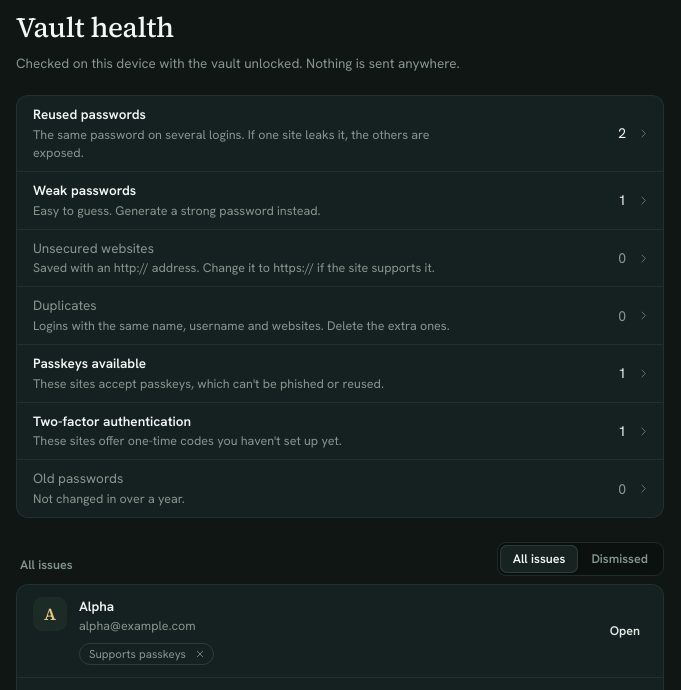
Scenario: HealthView › offers no How to enable for a site without a setup guide
What coordinates should you click on to do the following:
click the button that starts with "Passkeys available"
I would click on:
 (340, 373)
Its box is [17, 345, 663, 402].
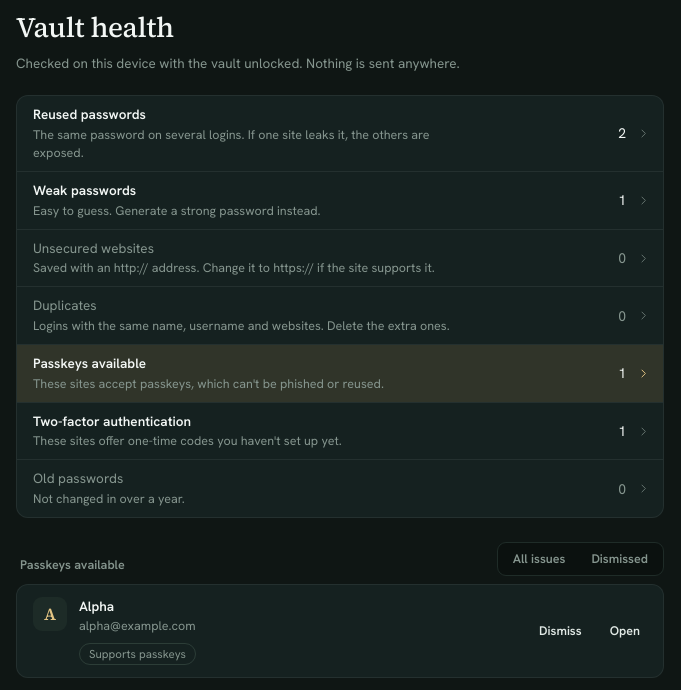
Check: the text "Alpha" is shown, box [79, 597, 114, 615]
What coordinates should you click on to do the following:
click the button that starts with "Two-factor authentication"
I would click on:
 (340, 431)
Its box is [17, 403, 663, 459].
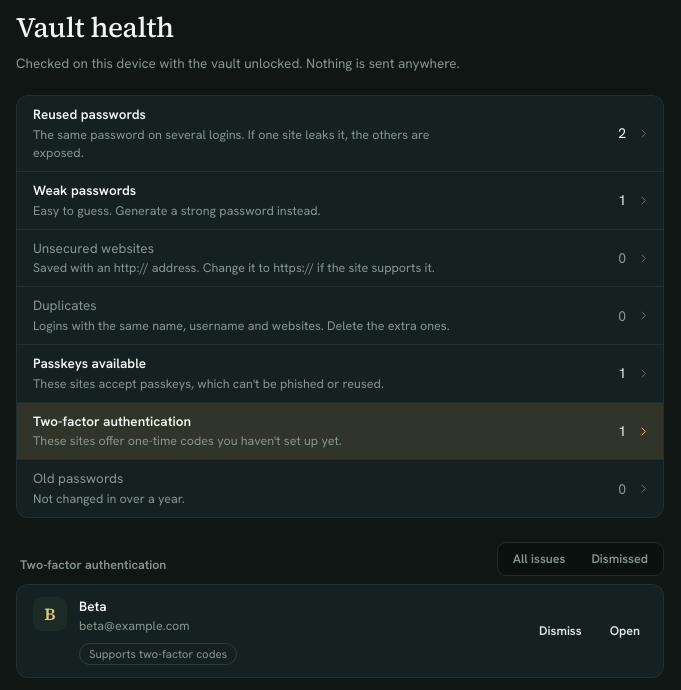
Check: the text "Beta" is shown, box [79, 597, 107, 615]
